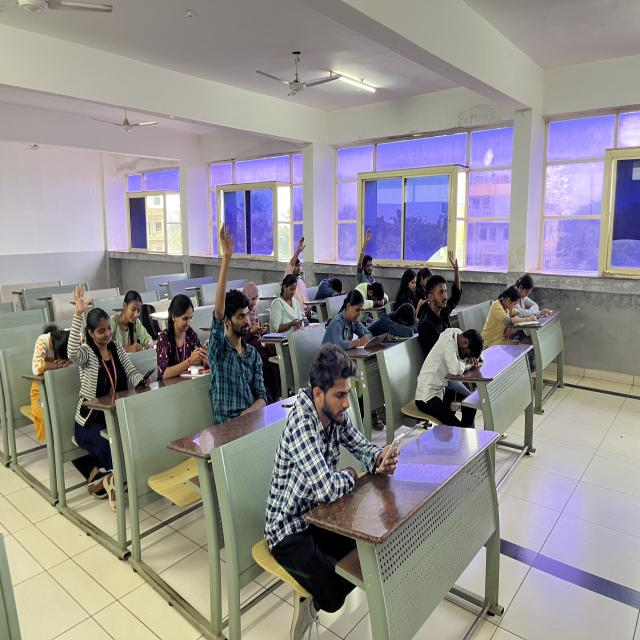Hand Rising: (203, 249, 255, 428), (423, 242, 464, 332), (356, 220, 388, 294)
Reading: (320, 290, 366, 354), (491, 284, 539, 342), (510, 273, 550, 323)
Sleeping: (417, 324, 488, 431), (30, 321, 81, 445), (370, 298, 420, 343), (345, 280, 395, 312)
Using Phone: (274, 338, 405, 550), (69, 279, 152, 511), (155, 293, 209, 416), (238, 282, 281, 406), (110, 291, 154, 354), (270, 274, 311, 336)
